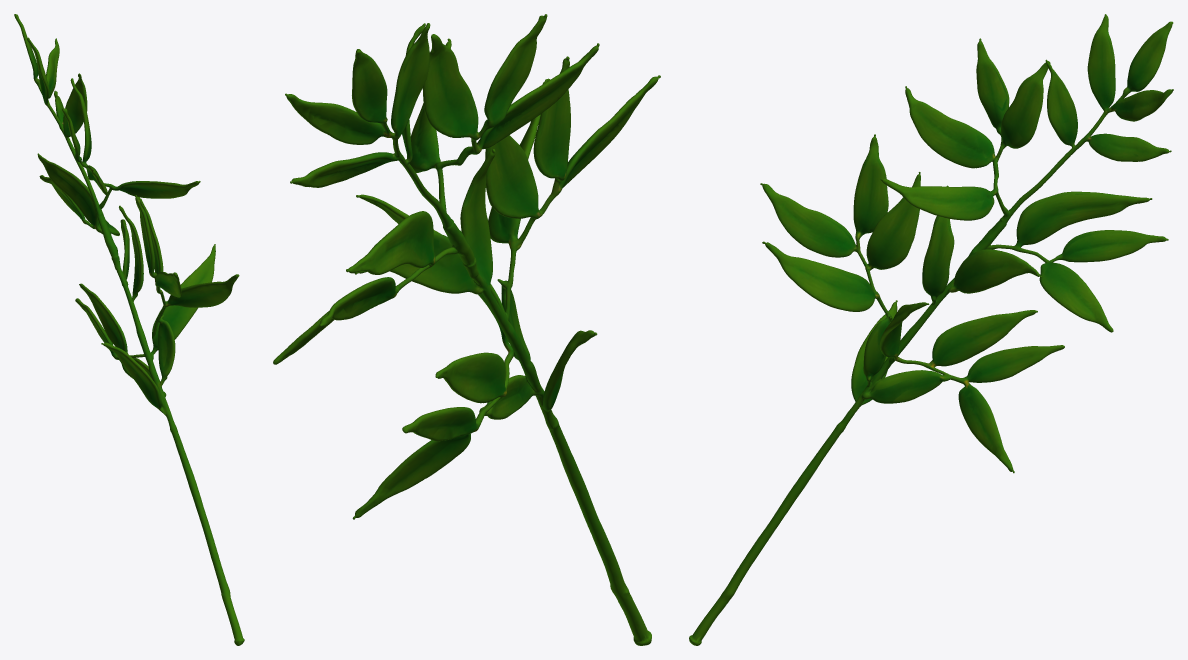
File: branch.glb
The picture shows the model from 3 angles, left to right: view 1: azimuth 30°, elevation 25°; view 2: azimuth 150°, elevation 25°; view 3: azimuth 270°, elevation 25°; orthographic projection. The views are drawn at different scales.
Parts seen in each view (by area): view 1: tripo_node_febc96b1-4777-4177-8127-810d8c59ee72; view 2: tripo_node_febc96b1-4777-4177-8127-810d8c59ee72; view 3: tripo_node_febc96b1-4777-4177-8127-810d8c59ee72.
Boxes of the visible parts, <box> form: tripo_node_febc96b1-4777-4177-8127-810d8c59ee72: <box>14,14,244,645</box>; tripo_node_febc96b1-4777-4177-8127-810d8c59ee72: <box>273,14,660,645</box>; tripo_node_febc96b1-4777-4177-8127-810d8c59ee72: <box>689,14,1173,645</box>.
Size of the model in its own units: 0.2797 by 0.9999 by 0.7249.
Materials: 1 (1 with a texture image).
